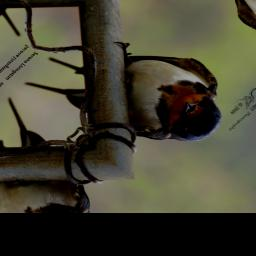Swallow: (22, 0, 250, 185)
